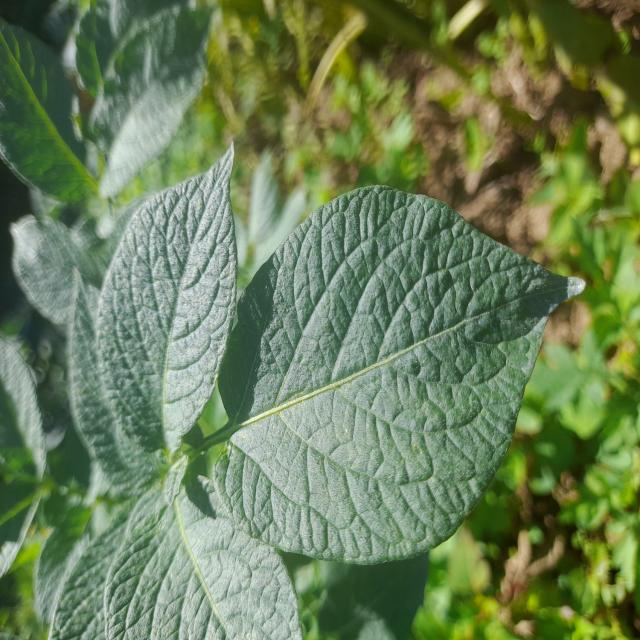healthy: (213, 182, 586, 568)
